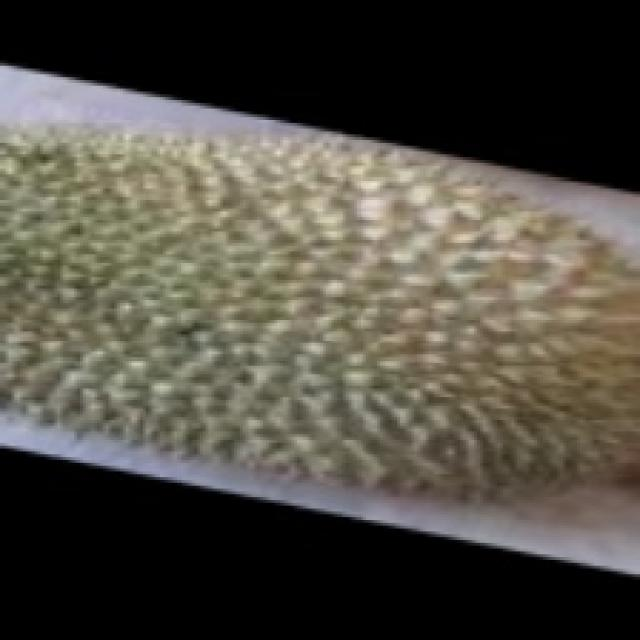d2: (0, 159, 640, 439)
